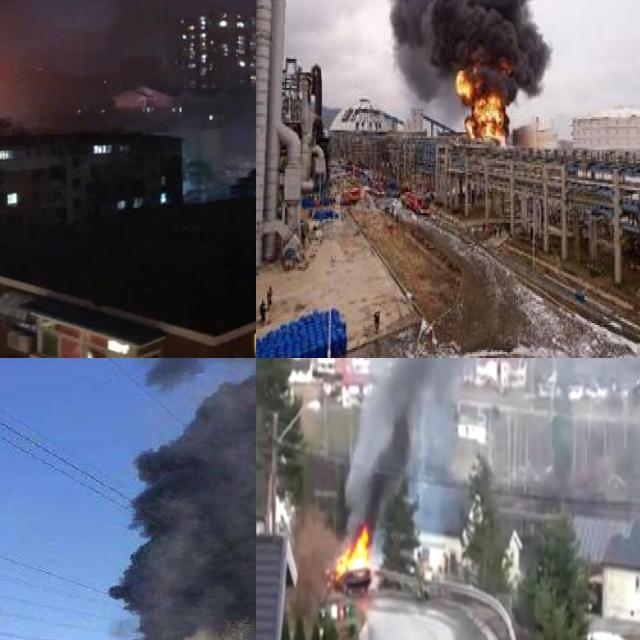fire: (456, 61, 506, 140), (336, 530, 371, 578)
smoke: (97, 358, 256, 640), (342, 358, 491, 535), (0, 0, 224, 87), (389, 0, 548, 97)
